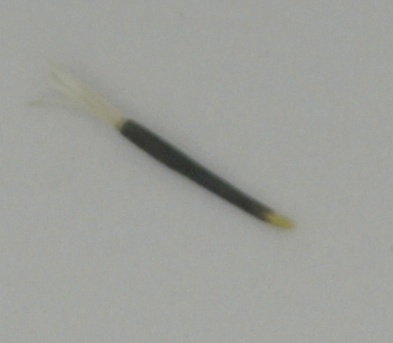เมล็ดดีเรียวยาว: (45, 63, 290, 235)
